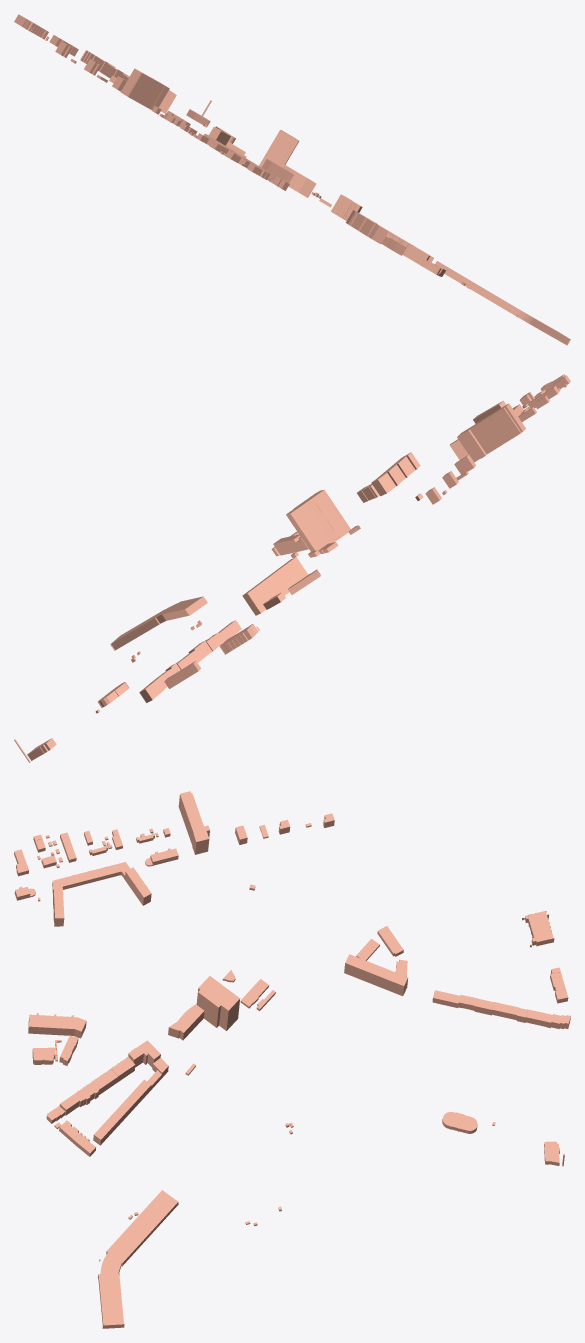
The picture shows the model from 3 angles, top to bottom: view 1: azimuth 30°, elevation 25°; view 2: azimuth 150°, elevation 25°; view 3: azimuth 270°, elevation 25°; orthographic projection. The views are drawn at different scales.
Bounding box in the file's own units: 530 × 423 × 619.
